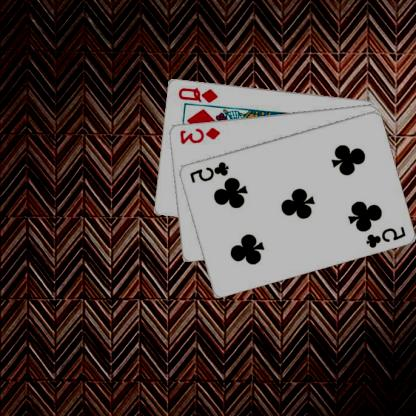3D: (179, 125, 223, 145)
5C: (188, 159, 232, 184), (365, 224, 408, 249)
QD: (177, 84, 221, 104)
